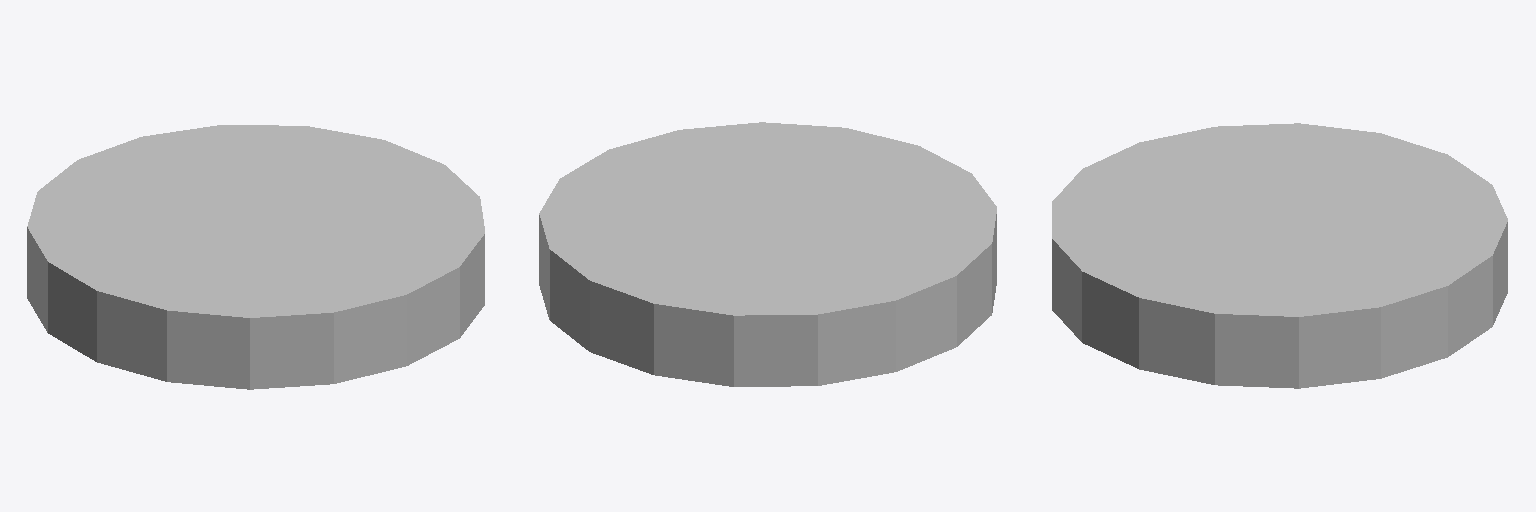
Rendered from circlePlate.obj.
3 views of the same model, side by side, from view 1: azimuth 30°, elevation 25°; view 2: azimuth 150°, elevation 25°; view 3: azimuth 270°, elevation 25° (orthographic).
Parts seen in each view (by area): view 1: Circle_Circle.001; view 2: Circle_Circle.001; view 3: Circle_Circle.001.
Boxes of the visible parts, box(x1,y1,x2,y2) form: Circle_Circle.001: box(27, 125, 484, 389); Circle_Circle.001: box(539, 122, 996, 386); Circle_Circle.001: box(1052, 123, 1507, 388).
Bounding box in the file's own units: 1.29 × 0.223 × 1.29.